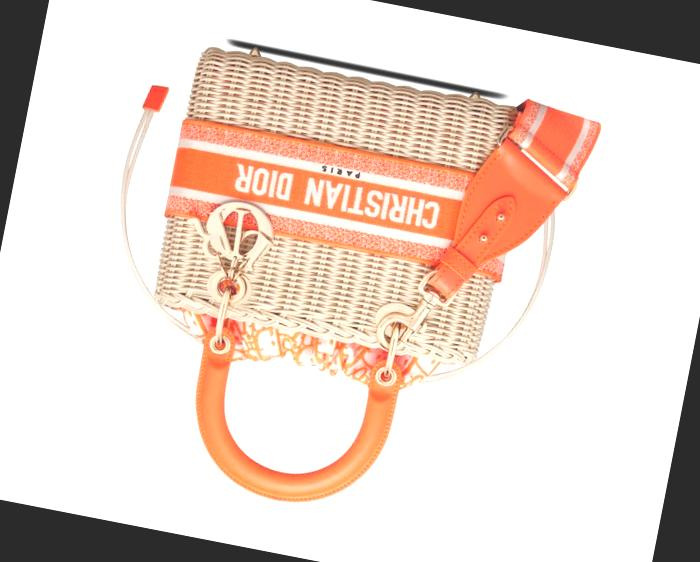DIOR: (220, 136, 456, 253)
